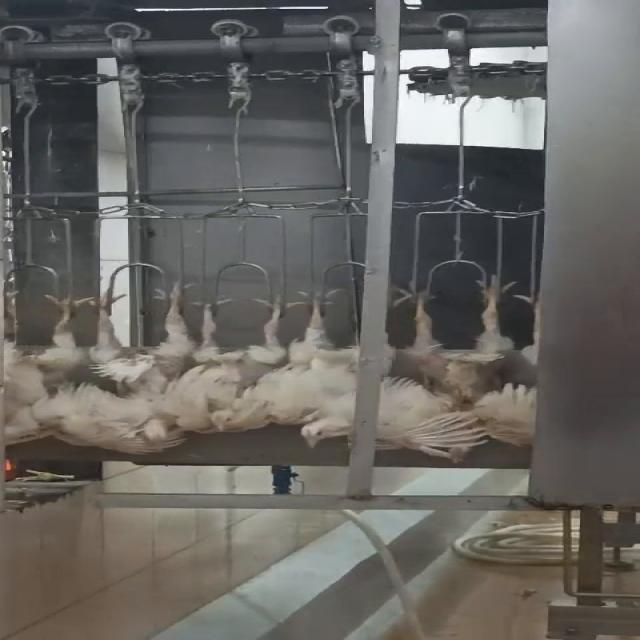chicken: (382, 279, 534, 463), (92, 278, 192, 456), (180, 277, 288, 440), (0, 289, 91, 451), (276, 278, 358, 450)
